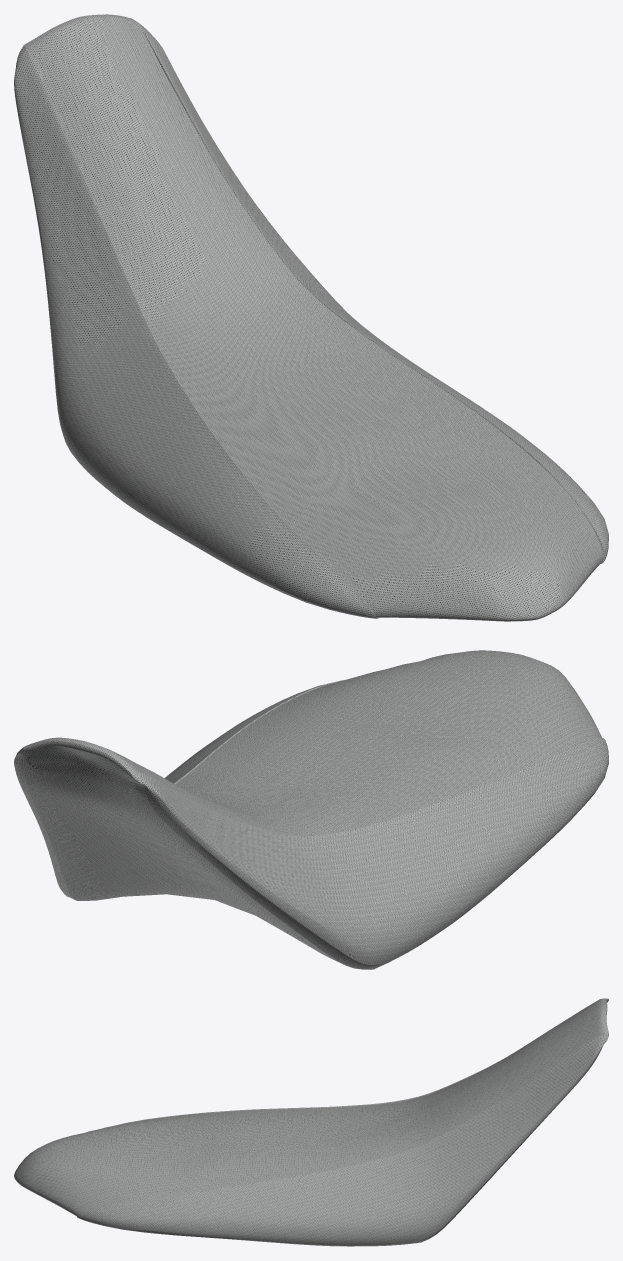
The model's file is 193_MainSeat-eaa6a53c.glb.
The picture shows the model from 3 angles, top to bottom: view 1: azimuth 30°, elevation 25°; view 2: azimuth 150°, elevation 25°; view 3: azimuth 270°, elevation 25°; orthographic projection. The views are drawn at different scales.
Parts seen in each view (by area): view 1: Seat; view 2: Seat; view 3: Seat.
Boxes of the visible parts, x1=… form: Seat: x1=14, y1=14, x2=608, y2=621; Seat: x1=14, y1=650, x2=608, y2=969; Seat: x1=14, y1=998, x2=608, y2=1246.
Bounding box in the file's own units: 0.2977 × 0.2505 × 0.7008.
Materials: 3 (3 with a texture image).
